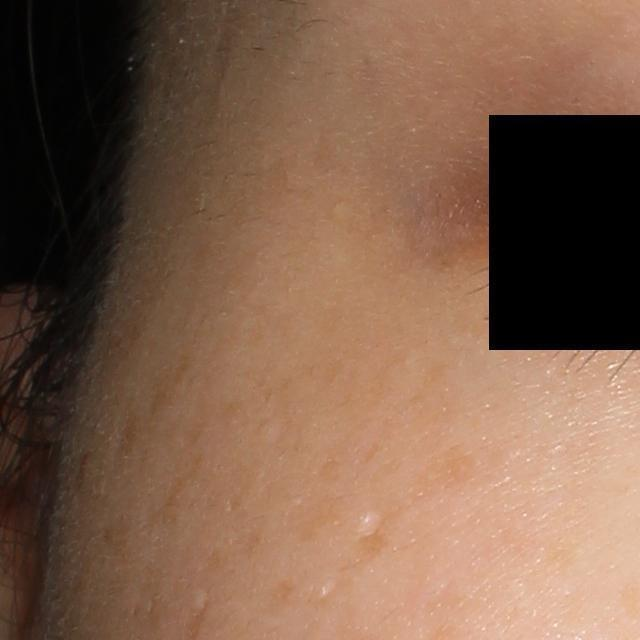melasma: (404, 447, 477, 508), (288, 487, 342, 547), (405, 365, 453, 431), (264, 576, 297, 617)
